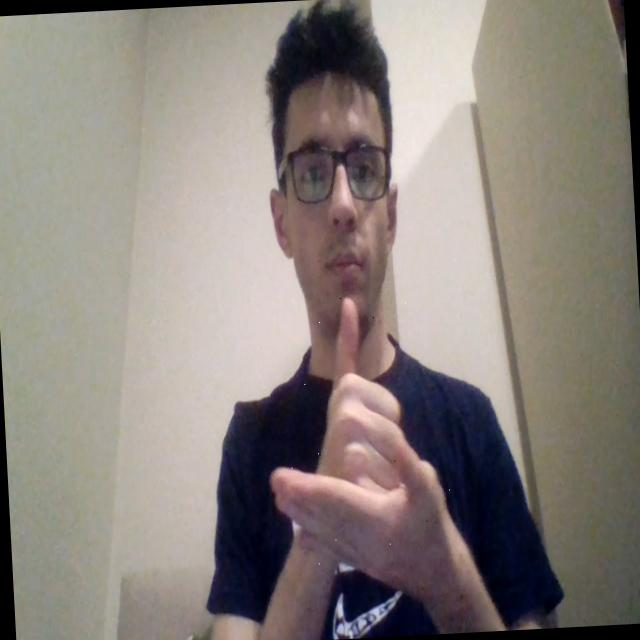help: (266, 290, 455, 591)
